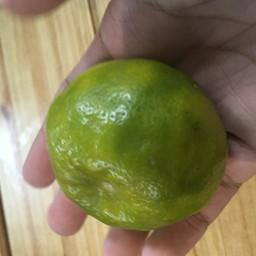Good_orange: (42, 52, 232, 232)
